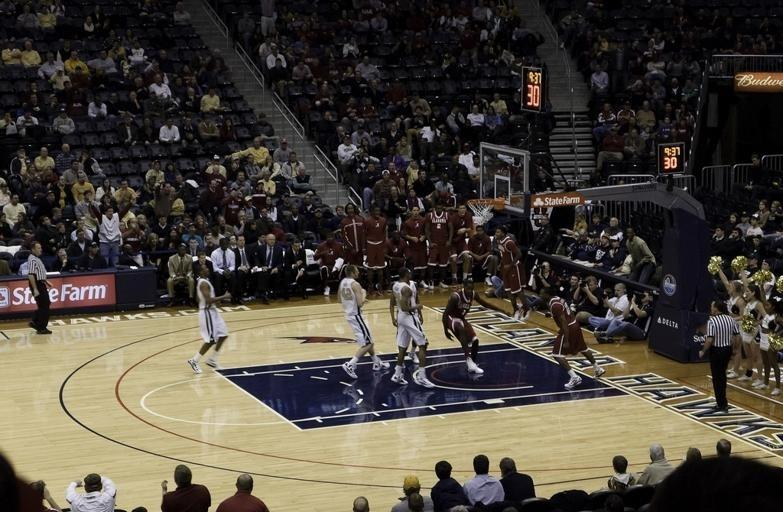basketball-player: (381, 262, 443, 391), (441, 275, 507, 374), (336, 263, 389, 379), (548, 295, 606, 389), (186, 265, 231, 374)
